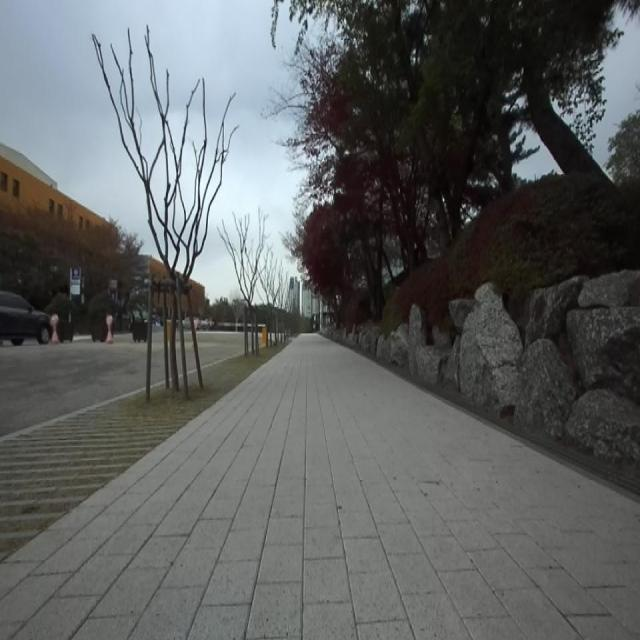sidewalk: (0, 336, 640, 639)
